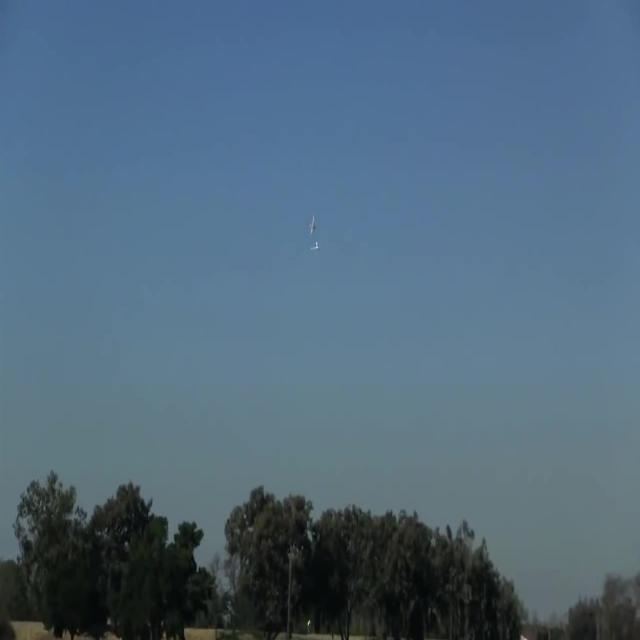iha: (311, 214, 313, 235), (312, 244, 316, 249)
